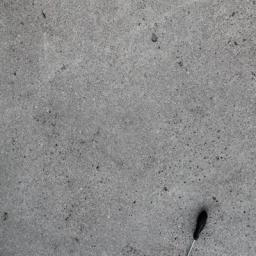FOD: (188, 209, 210, 256)
